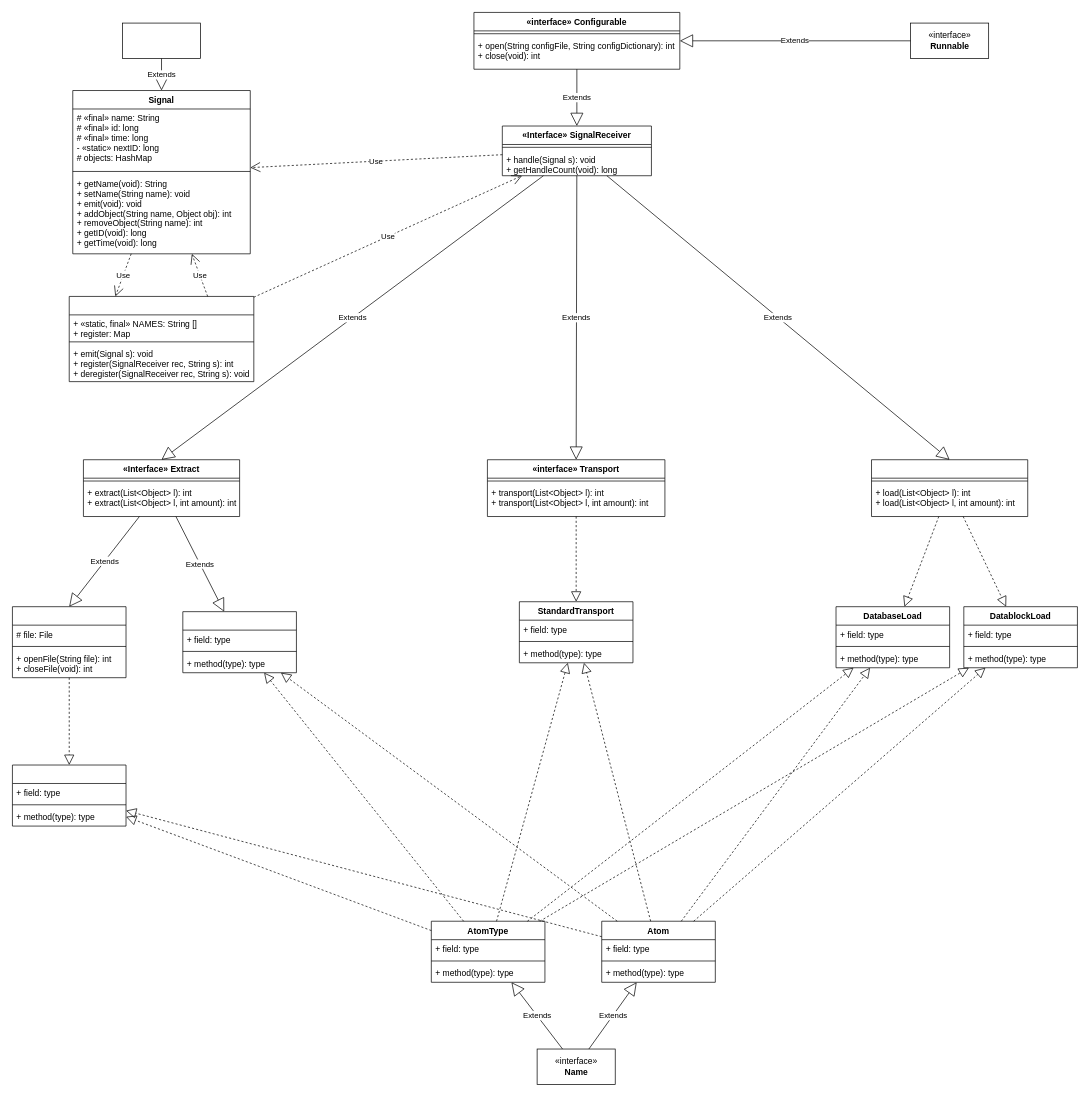
Some shapes in this 1090 by 1097 pixel diagram are drawn without their labels. The box of each missing label's shape, as (x1, y1, x2, y2) in pixels:
CSVExtract: (12, 764, 126, 826)
DatabaseExtract: (182, 611, 296, 673)
SignalManager: (69, 296, 254, 382)
«abstract» FileExtract: (12, 606, 126, 678)
«Interface» Load: (871, 459, 1028, 517)
«interface» Serializable: (122, 22, 201, 59)
